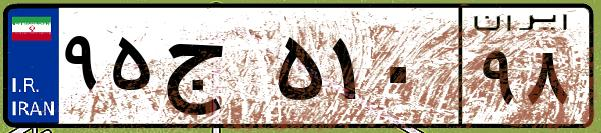0: (385, 28, 445, 110)
1: (330, 28, 385, 110)
5: (270, 28, 330, 110), (110, 28, 158, 98)
8: (525, 38, 570, 115)
9: (57, 26, 110, 100), (475, 38, 525, 113)
ج: (158, 20, 270, 120)
